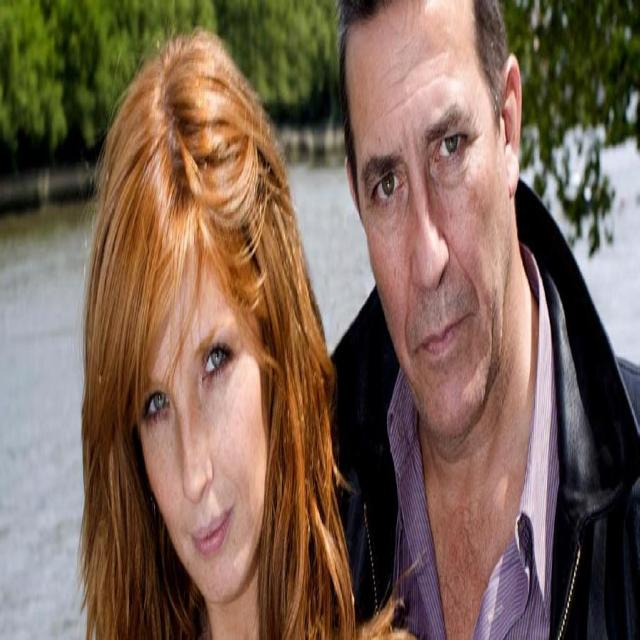Face: (354, 14, 512, 429), (135, 209, 270, 596)
